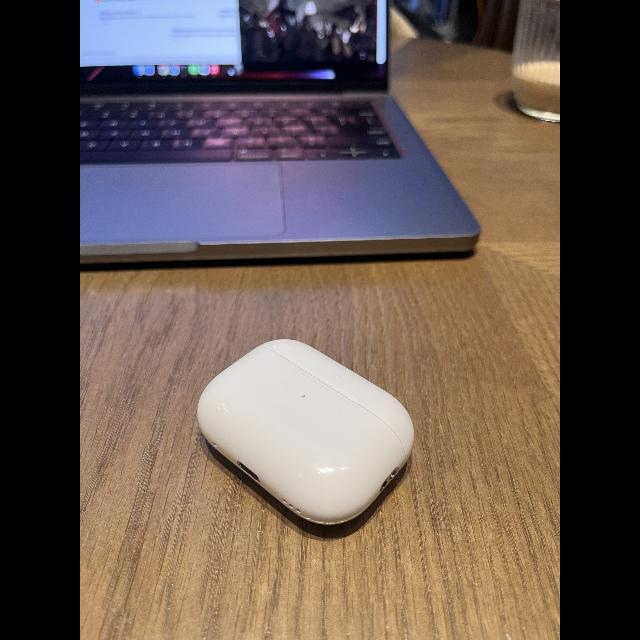AirPods Pro: (192, 332, 424, 544)
